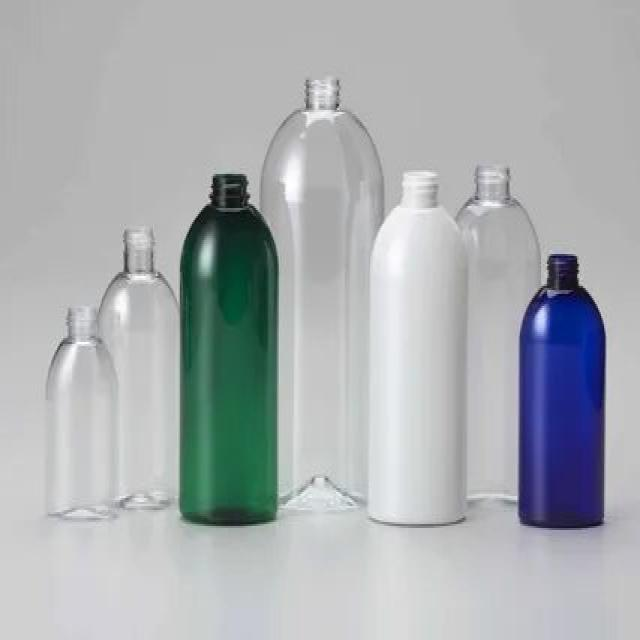green: (179, 174, 277, 524)
